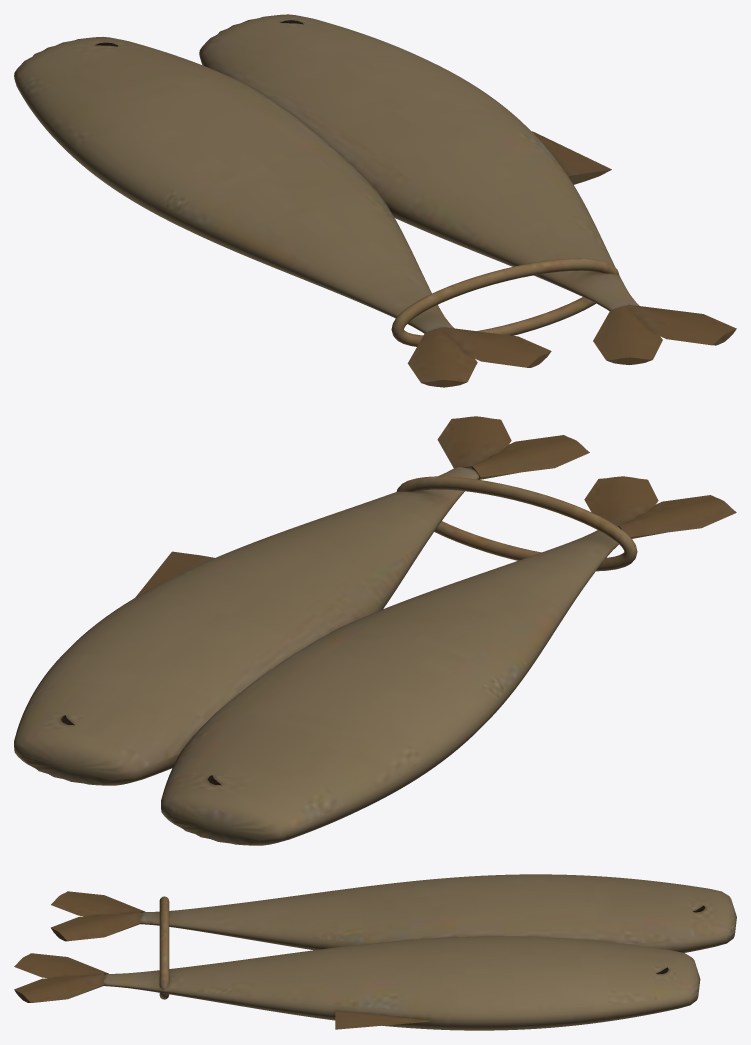
File: salted_fish.glb
3 renders of one model, top to bottom at view 1: azimuth 30°, elevation 25°; view 2: azimuth 150°, elevation 25°; view 3: azimuth 270°, elevation 25°, orthographic. The views are drawn at different scales.
Parts seen in each view (by area): view 1: salted_fish; view 2: salted_fish; view 3: salted_fish.
Boxes of the visible parts, x1,y1,x2,y2 form: salted_fish: [14, 14, 736, 387]; salted_fish: [14, 416, 736, 845]; salted_fish: [14, 874, 736, 1030].
Size of the model in its own units: 0.1149 by 0.0194 by 0.237.
Materials: 1 (1 with a texture image).
